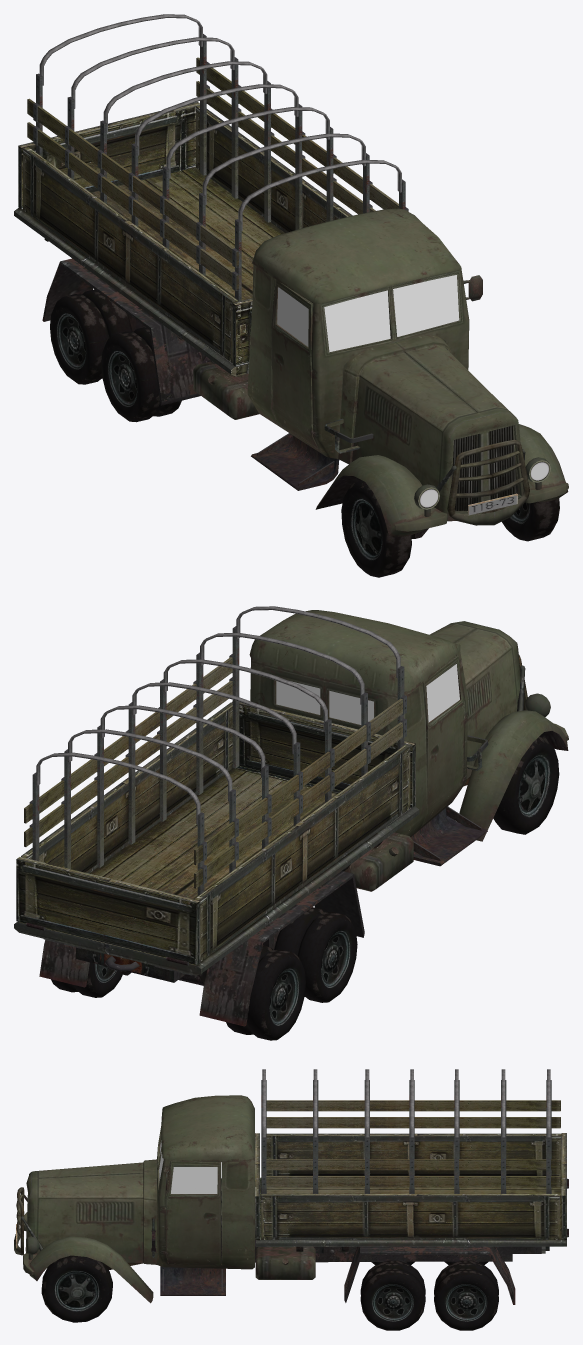
The picture shows the model from 3 angles, top to bottom: view 1: azimuth 30°, elevation 25°; view 2: azimuth 150°, elevation 25°; view 3: azimuth 270°, elevation 25°; orthographic projection. The views are drawn at different scales.
Parts seen in each view (by area): view 1: Truck_ArmyTruck_main_0, ArmyTruck_Window_ArmyTruck_Glass_0, Wheel_Right_B_02_ArmyTruck_main_0, Door_Right_ArmyTruck_main_0, Wheel_Right_B_01_ArmyTruck_main_0, Wheel_Right_F_01_ArmyTruck_main_0, Hood_Right_ArmyTruck_main_0, Object002_ArmyTruck_main_0, Hood_Left_ArmyTruck_main_0, Object003_ArmyTruck_main_0, Wheel_Left_F_01_ArmyTruck_main_0; view 2: Truck_ArmyTruck_main_0, Wheel_Right_B_01_ArmyTruck_main_0, Wheel_Right_B_02_ArmyTruck_main_0, Door_Right_ArmyTruck_main_0, Wheel_Right_F_01_ArmyTruck_main_0, ArmyTruck_Window_ArmyTruck_Glass_0, Object002_ArmyTruck_main_0, Object003_ArmyTruck_main_0, Hood_Right_ArmyTruck_main_0, Wheel_Left_B_02_ArmyTruck_main_0; view 3: Truck_ArmyTruck_main_0, Door_Left_ArmyTruck_main_0, Wheel_Left_F_01_ArmyTruck_main_0, Wheel_Left_B_01_ArmyTruck_main_0, Wheel_Left_B_02_ArmyTruck_main_0, Hood_Left_ArmyTruck_main_0, Object004_ArmyTruck_main_0, Object001_ArmyTruck_main_0, ArmyTruck_Window_ArmyTruck_Glass_0, Hood_Right_ArmyTruck_main_0.
Boxes of the visible parts, box(x1,y1,x2,y2) form: Truck_ArmyTruck_main_0: box(14, 14, 568, 538); ArmyTruck_Window_ArmyTruck_Glass_0: box(277, 275, 459, 352); Wheel_Right_B_02_ArmyTruck_main_0: box(50, 289, 132, 384); Door_Right_ArmyTruck_main_0: box(271, 279, 317, 447); Wheel_Right_B_01_ArmyTruck_main_0: box(101, 327, 181, 422); Wheel_Right_F_01_ArmyTruck_main_0: box(341, 480, 411, 577); Hood_Right_ArmyTruck_main_0: box(360, 352, 477, 431); Object002_ArmyTruck_main_0: box(251, 433, 339, 490); Hood_Left_ArmyTruck_main_0: box(405, 345, 511, 412); Object003_ArmyTruck_main_0: box(193, 361, 259, 419); Wheel_Left_F_01_ArmyTruck_main_0: box(502, 498, 559, 541); Truck_ArmyTruck_main_0: box(14, 606, 568, 1026); Wheel_Right_B_01_ArmyTruck_main_0: box(274, 907, 357, 1002); Wheel_Right_B_02_ArmyTruck_main_0: box(226, 945, 305, 1040); Door_Right_ArmyTruck_main_0: box(422, 655, 464, 825); Wheel_Right_F_01_ArmyTruck_main_0: box(493, 736, 559, 834); ArmyTruck_Window_ArmyTruck_Glass_0: box(276, 664, 459, 724); Object002_ArmyTruck_main_0: box(411, 806, 487, 866); Object003_ArmyTruck_main_0: box(344, 832, 413, 891); Hood_Right_ArmyTruck_main_0: box(454, 628, 511, 684); Wheel_Left_B_02_ArmyTruck_main_0: box(51, 962, 122, 997); Truck_ArmyTruck_main_0: box(14, 1069, 568, 1304); Door_Left_ArmyTruck_main_0: box(167, 1161, 220, 1264); Wheel_Left_F_01_ArmyTruck_main_0: box(41, 1255, 112, 1322); Wheel_Left_B_01_ArmyTruck_main_0: box(360, 1260, 425, 1330); Wheel_Left_B_02_ArmyTruck_main_0: box(434, 1260, 498, 1330); Hood_Left_ArmyTruck_main_0: box(38, 1173, 143, 1197); Object004_ArmyTruck_main_0: box(255, 1246, 315, 1279); Object001_ArmyTruck_main_0: box(160, 1266, 225, 1295); ArmyTruck_Window_ArmyTruck_Glass_0: box(159, 1140, 217, 1193); Hood_Right_ArmyTruck_main_0: box(38, 1162, 143, 1178).
Size of the model in its own units: 13.08 by 16.6 by 40.16.
2 materials, 1 textured.
